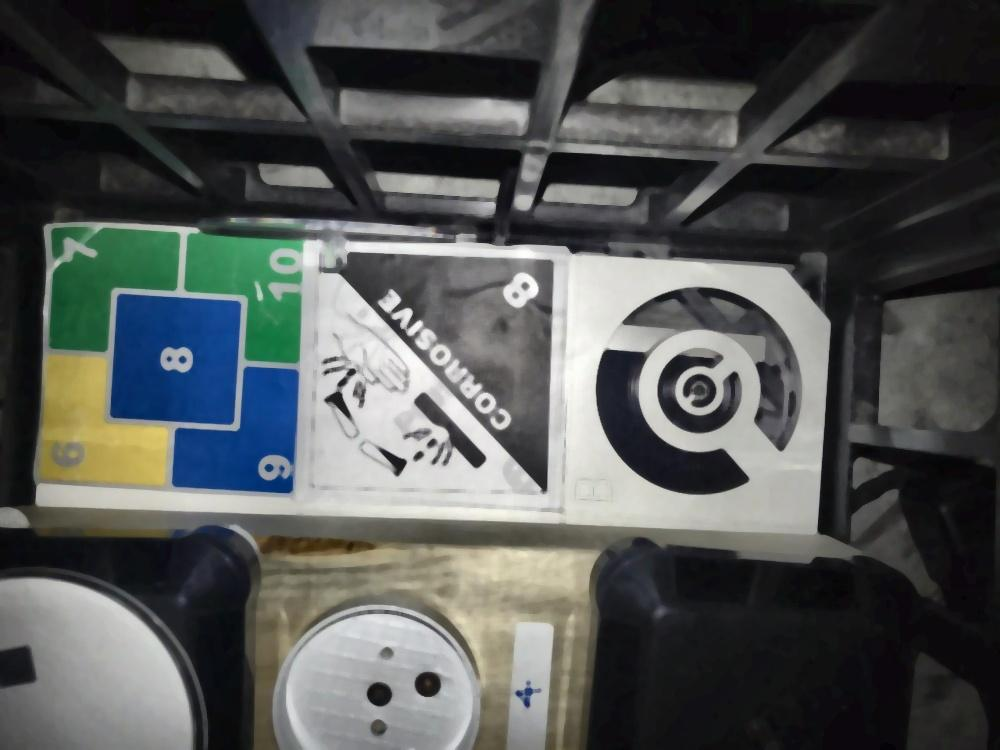corrosive: (301, 237, 570, 516)
